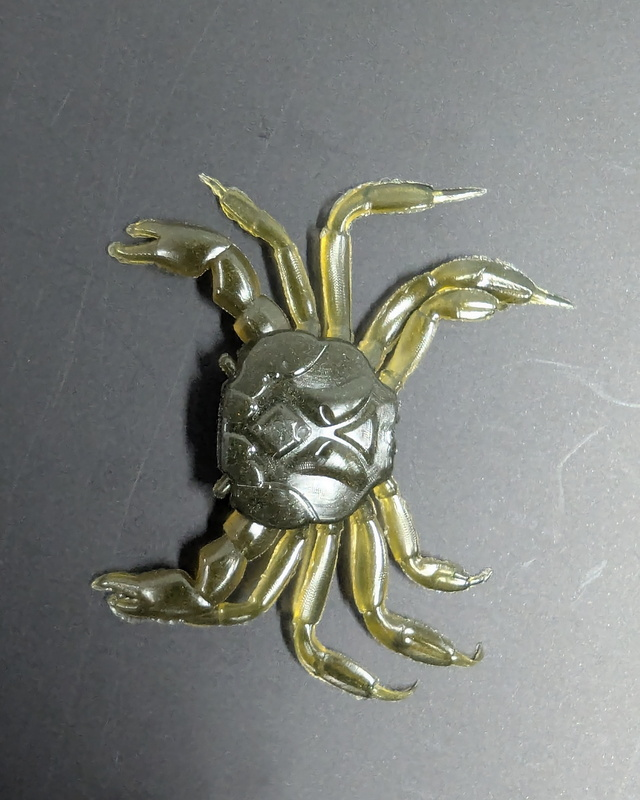crab2: (90, 168, 577, 707)
